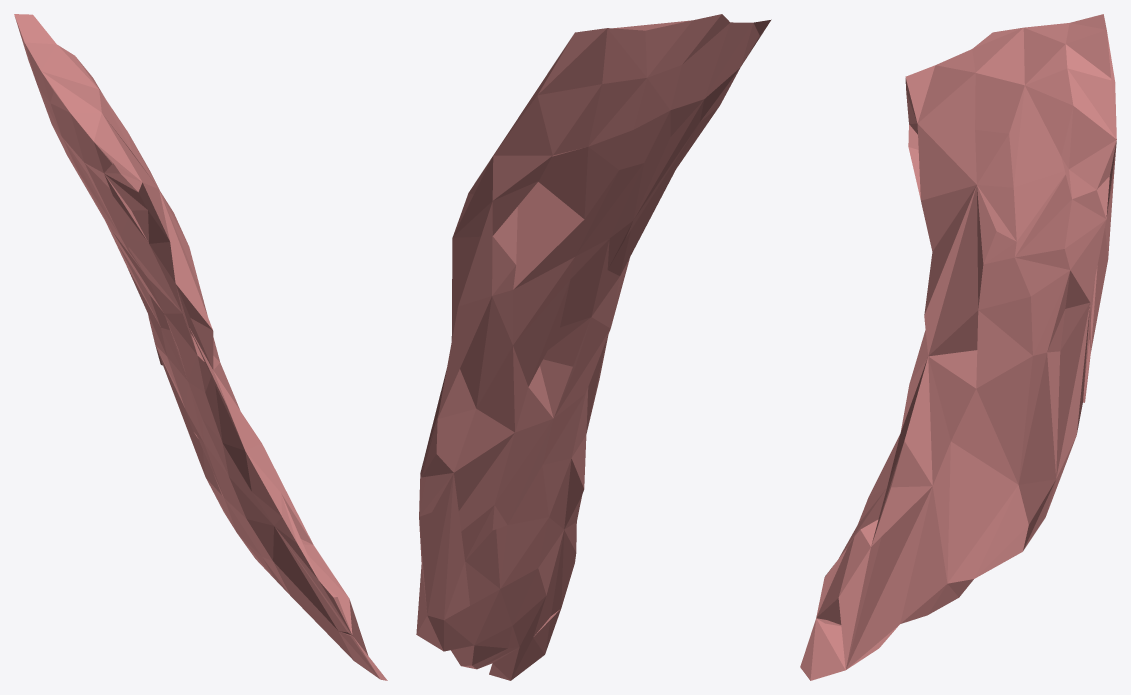
File: Deep_part_of_masseter.r.glb
The picture shows the model from 3 angles, left to right: view 1: azimuth 30°, elevation 25°; view 2: azimuth 150°, elevation 25°; view 3: azimuth 270°, elevation 25°; orthographic projection. The views are drawn at different scales.
Visible parts, largest first — view 1: Deep_part_of_masseter.r; view 2: Deep_part_of_masseter.r; view 3: Deep_part_of_masseter.r.
Part boxes in pixels (x1,y1,x2,y2): Deep_part_of_masseter.r: [14, 14, 387, 680]; Deep_part_of_masseter.r: [416, 14, 771, 680]; Deep_part_of_masseter.r: [800, 14, 1116, 680].
Size of the model in its own units: 0.0261 by 0.0639 by 0.0323.
